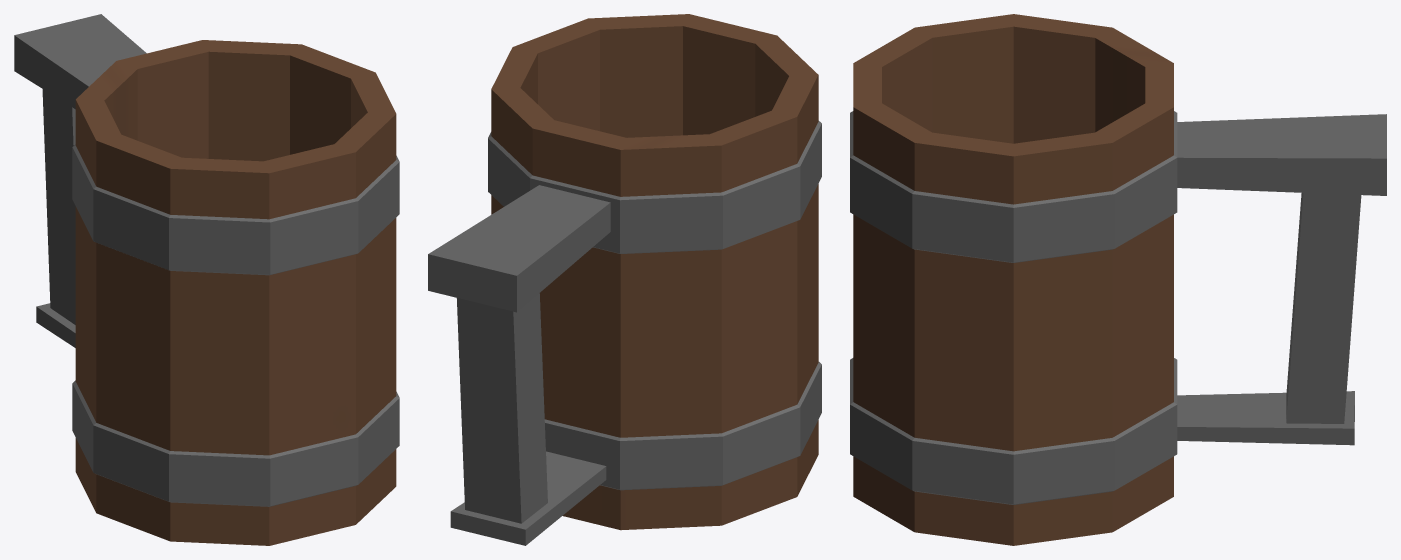
The model's file is BeerMug.fbx.
3 renders of one model, left to right at view 1: azimuth 30°, elevation 25°; view 2: azimuth 150°, elevation 25°; view 3: azimuth 270°, elevation 25°, orthographic. The views are drawn at different scales.
Visible parts, largest first — view 1: Cylinder.009; view 2: Cylinder.009; view 3: Cylinder.009.
Part boxes in pixels (bbox=[...]): Cylinder.009: bbox=[14, 14, 399, 545]; Cylinder.009: bbox=[428, 14, 821, 545]; Cylinder.009: bbox=[850, 14, 1386, 545].
Size of the model in its own units: 14.74 by 18.42 by 23.01.
1 material, 1 textured.
